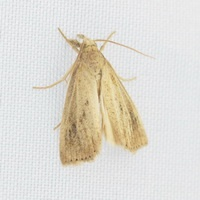insect: (34, 28, 147, 164)
